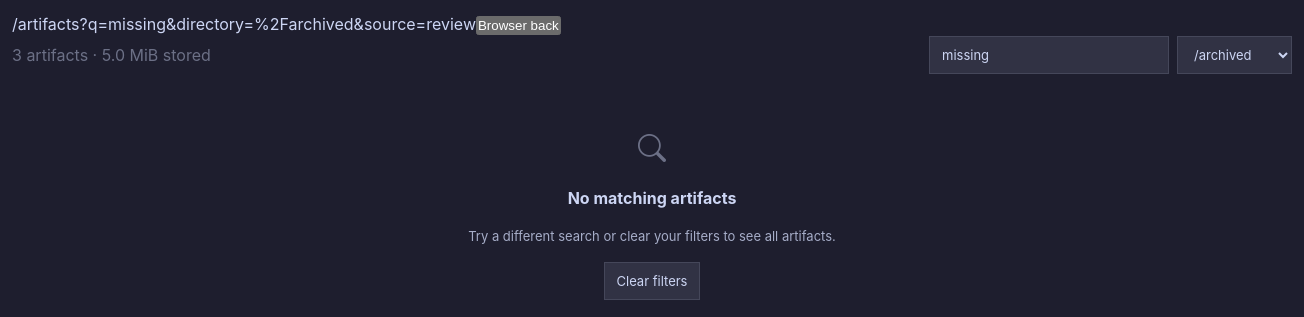
Test case: Artifacts page › clears only list filters and retains an unknown project from a shared URL
Expected: the dropdown named "Project" shows "/archived", [1177,36,1292,74]
Click the button "Clear filters" at [652, 281], box [604,262,700,300]
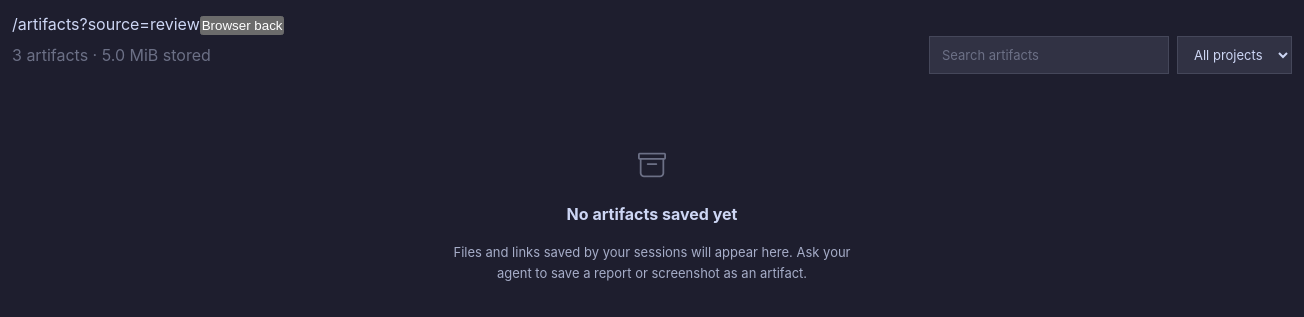
Result: the heading "No artifacts saved yet" is shown at [567,202,737,226]
Result: the text with test id "location" reads "/artifacts?source=review" at [12,14,200,34]
